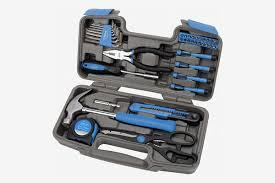wrench: (80, 19, 123, 48)
